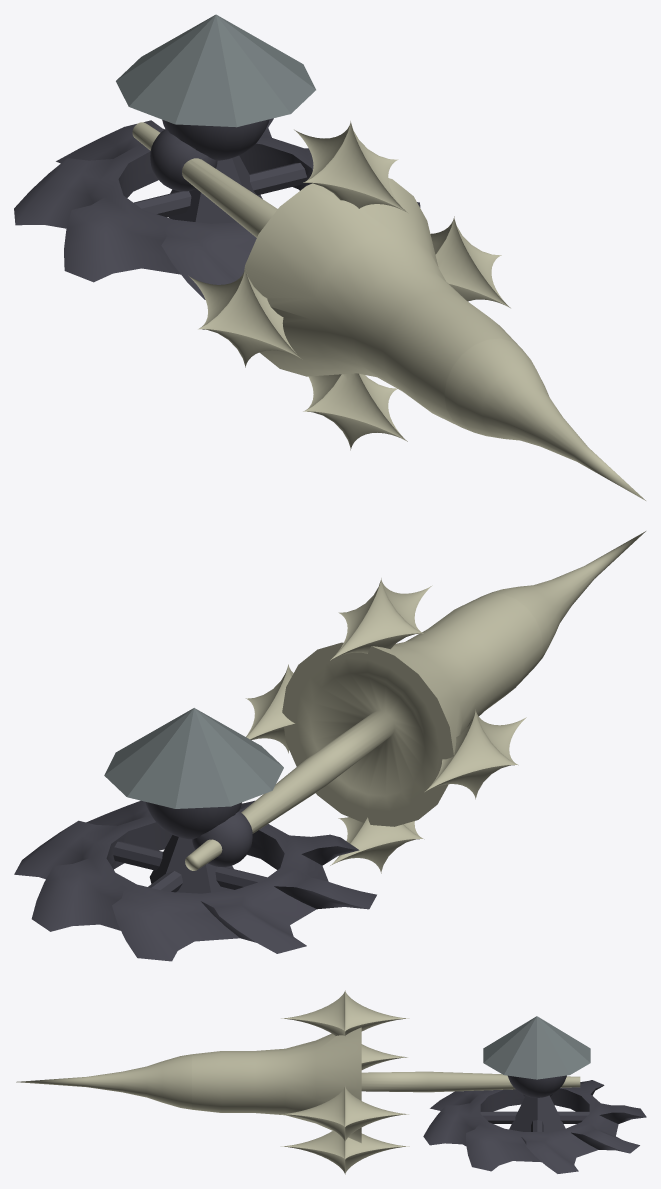
3 views of the same model, one above another, from view 1: azimuth 30°, elevation 25°; view 2: azimuth 150°, elevation 25°; view 3: azimuth 270°, elevation 25° (orthographic). The views are drawn at different scales.
Visible parts, largest first — view 1: Monster_09; view 2: Monster_09; view 3: Monster_09.
Part boxes in pixels (box(x1,y1,x2,y2)): Monster_09: box(14, 14, 645, 500); Monster_09: box(14, 531, 645, 961); Monster_09: box(16, 990, 646, 1174).
Size of the model in its own units: 74.98 by 65.06 by 202.
